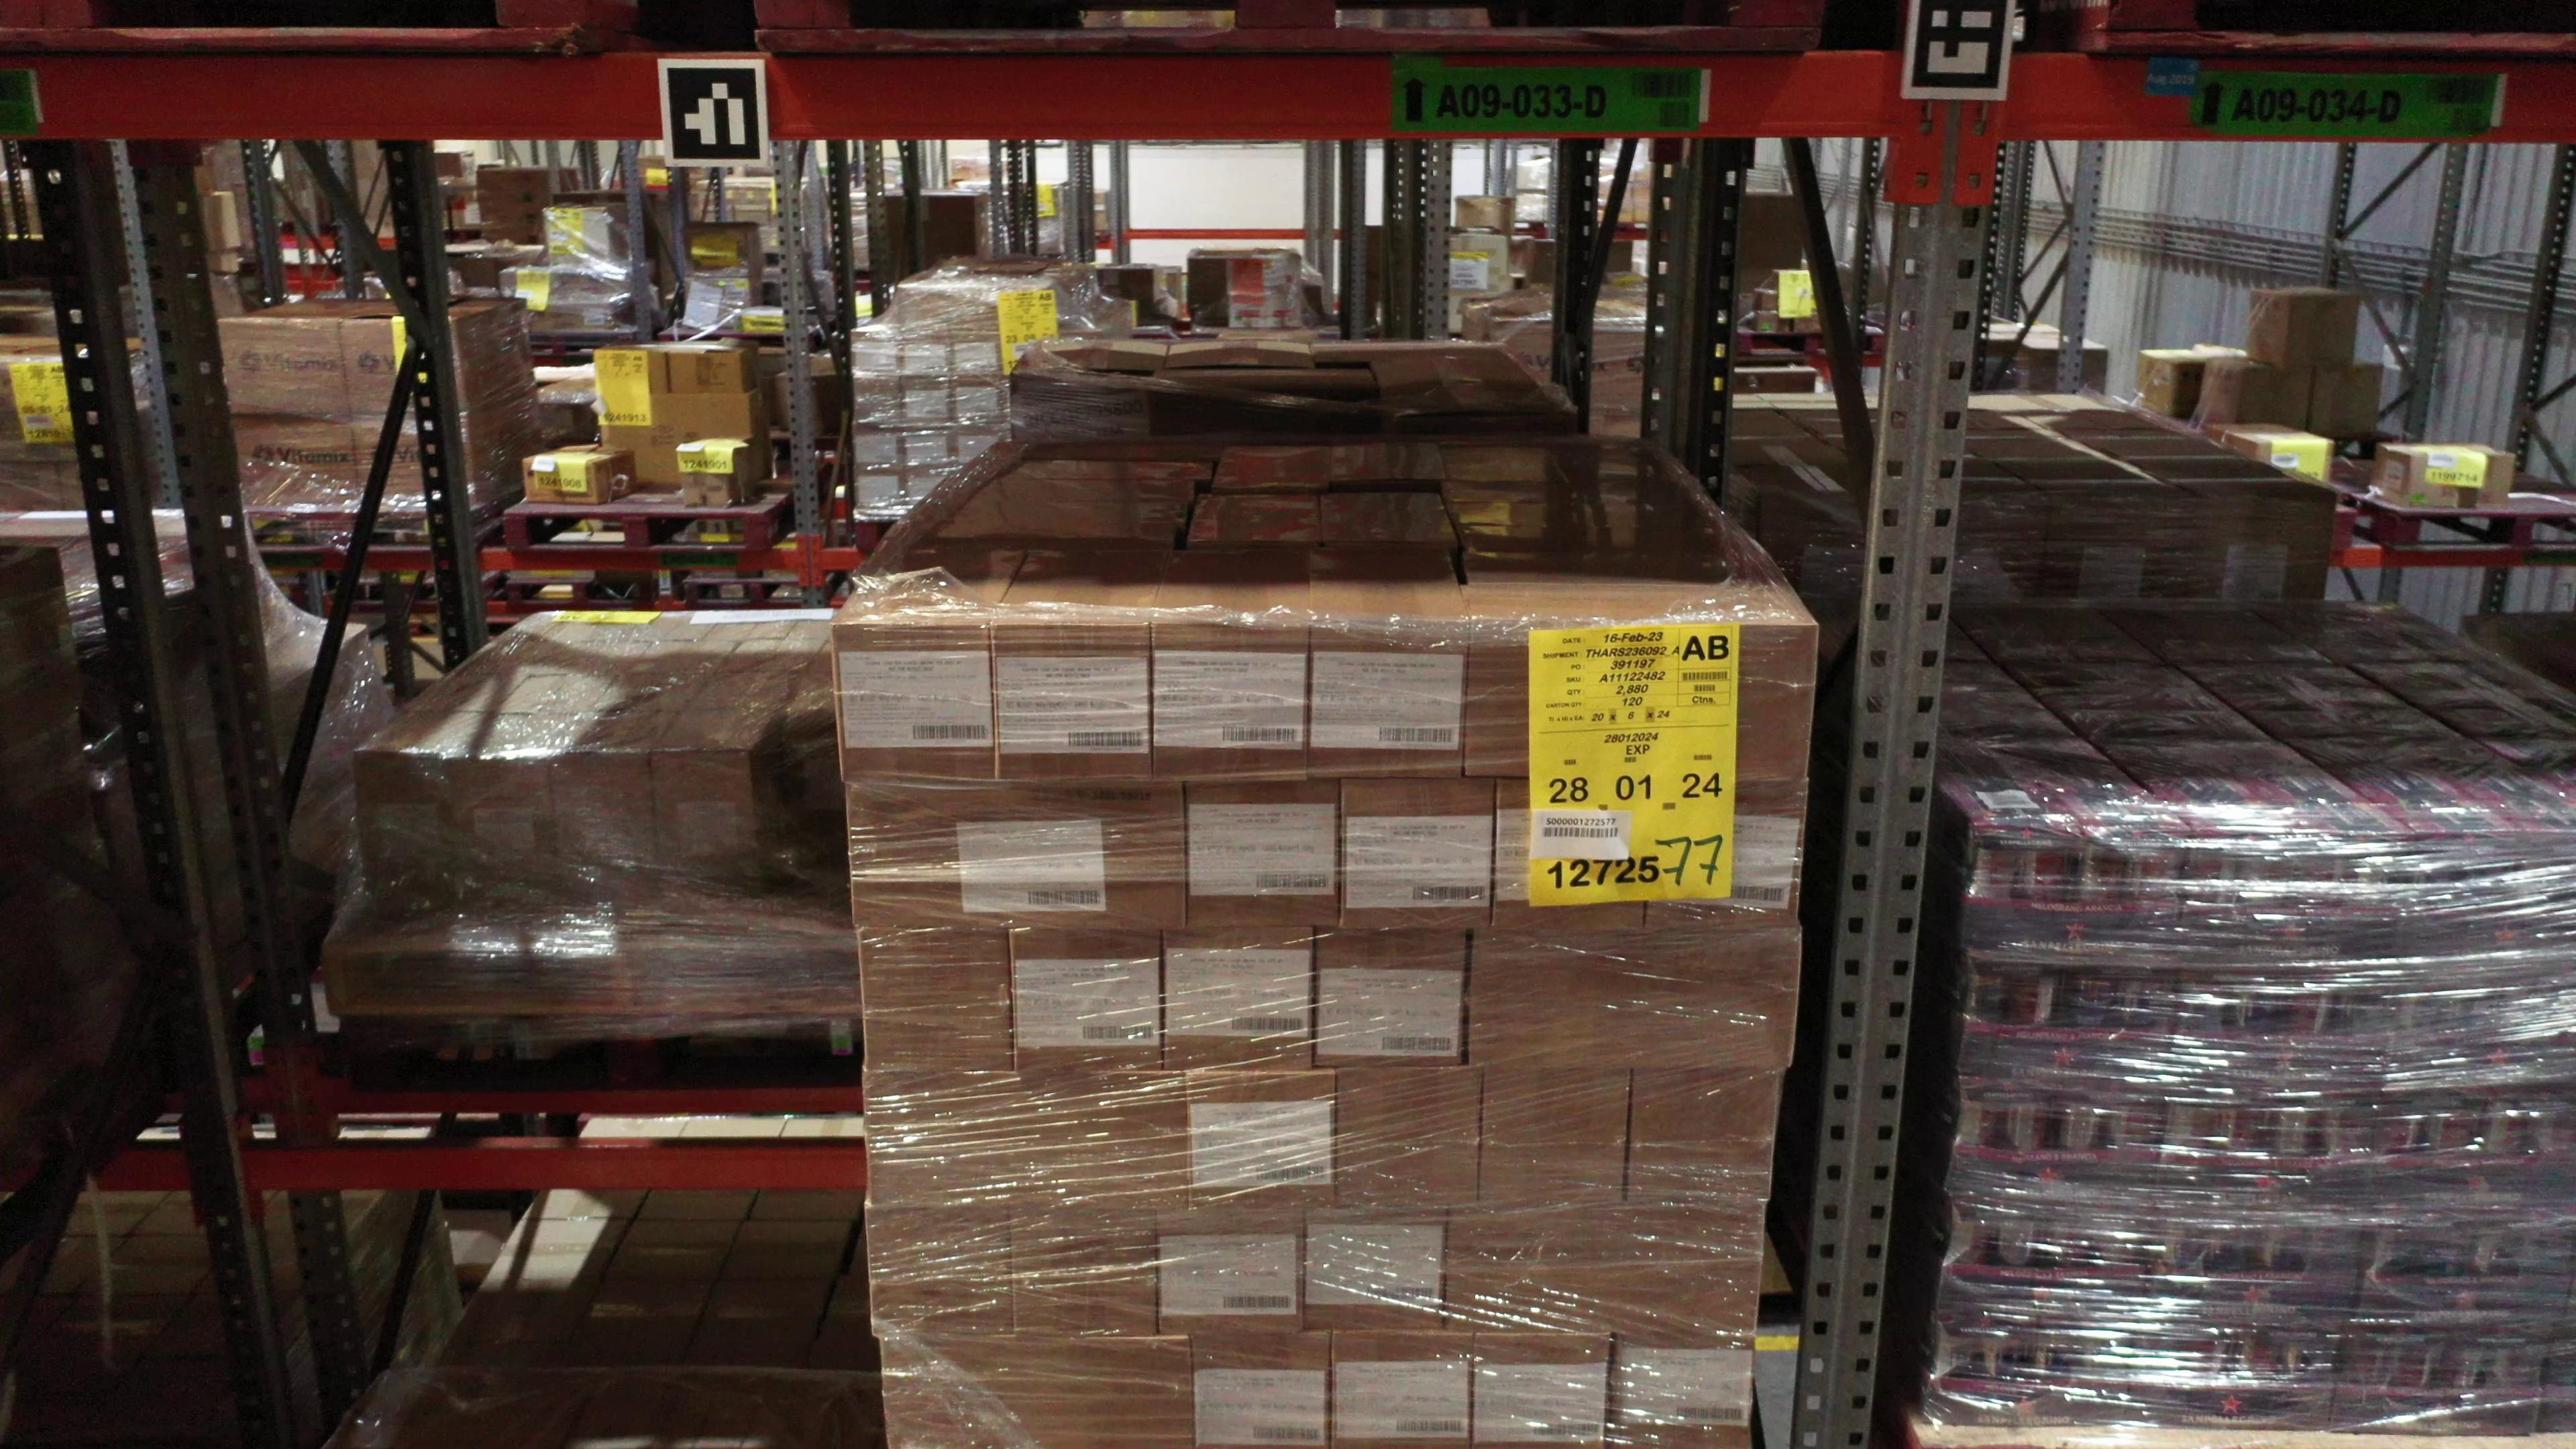-: (1462, 619, 1818, 785), (847, 785, 1187, 932), (1464, 928, 1803, 1075), (865, 1073, 1189, 1214), (1442, 1205, 1762, 1335), (883, 1328, 1196, 1449), (2180, 832, 2408, 991), (1964, 823, 2189, 973), (1957, 968, 2178, 1109), (2147, 1107, 2377, 1234), (2393, 834, 2576, 993), (1945, 1093, 2165, 1226), (2162, 979, 2388, 1107), (1937, 1210, 2153, 1342), (830, 622, 995, 792), (2350, 1226, 2576, 1346), (1306, 619, 1469, 783), (993, 622, 1154, 785), (1154, 622, 1315, 785), (2140, 1219, 2361, 1335), (1489, 780, 1655, 934), (2368, 1105, 2576, 1228), (1921, 1320, 2140, 1436), (1335, 778, 1496, 930), (1478, 1069, 1639, 1216), (2330, 1333, 2549, 1440), (1648, 783, 1805, 932), (859, 926, 1013, 1075), (1185, 787, 1342, 934), (2383, 986, 2576, 1105), (1008, 928, 1165, 1073), (1621, 1067, 1780, 1210), (1156, 932, 1315, 1071), (1185, 1073, 1340, 1216), (2135, 1330, 2341, 1436), (1313, 932, 1469, 1069), (1335, 1067, 1483, 1210), (865, 1205, 1013, 1342), (1156, 1210, 1308, 1340), (1011, 1207, 1161, 1340), (1299, 1212, 1451, 1337), (1608, 1330, 1758, 1449), (1328, 1333, 1476, 1449), (1189, 1335, 1335, 1449), (1474, 1333, 1612, 1449)
box: (356, 751, 465, 904), (456, 756, 561, 906), (653, 749, 751, 899), (557, 753, 657, 899), (780, 709, 845, 839)
